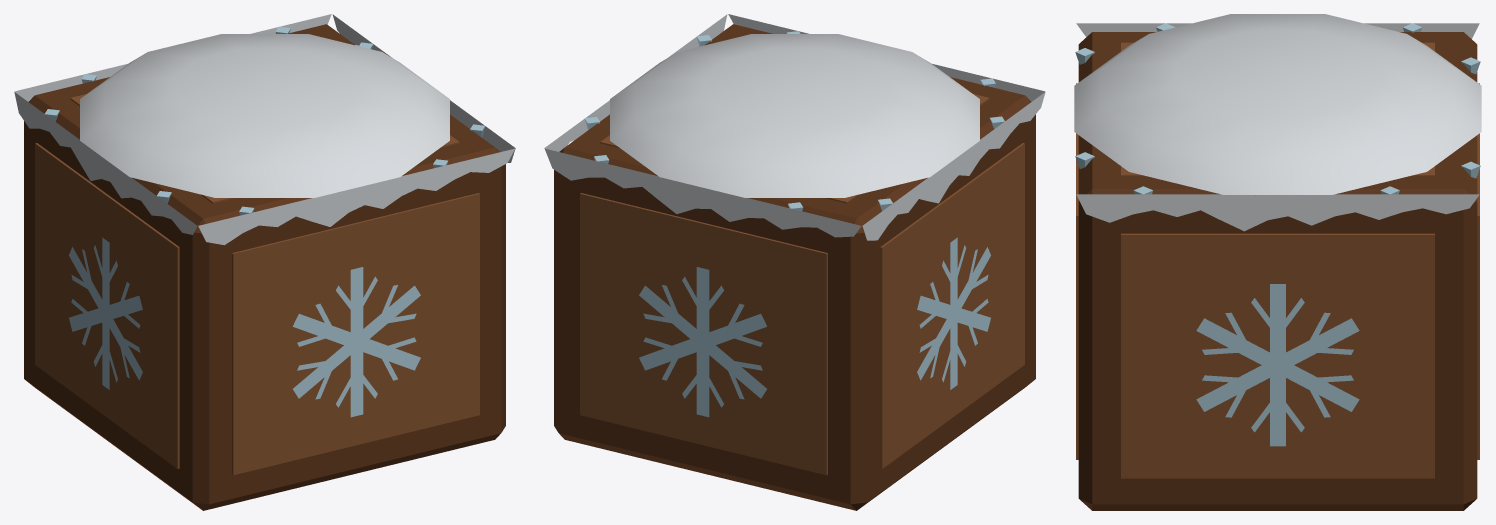
The model's file is ice-crate.glb.
3 views of the same model, side by side, from view 1: azimuth 30°, elevation 25°; view 2: azimuth 150°, elevation 25°; view 3: azimuth 270°, elevation 25° (orthographic). The views are drawn at different scales.
Parts seen in each view (by area): view 1: ice-crate; view 2: ice-crate; view 3: ice-crate.
Part boxes in pixels (x1,y1,x2,y2): ice-crate: [14, 14, 515, 510]; ice-crate: [544, 14, 1045, 510]; ice-crate: [1074, 14, 1481, 510].
Bounding box in the file's own units: 0.908 × 0.9 × 0.908.
